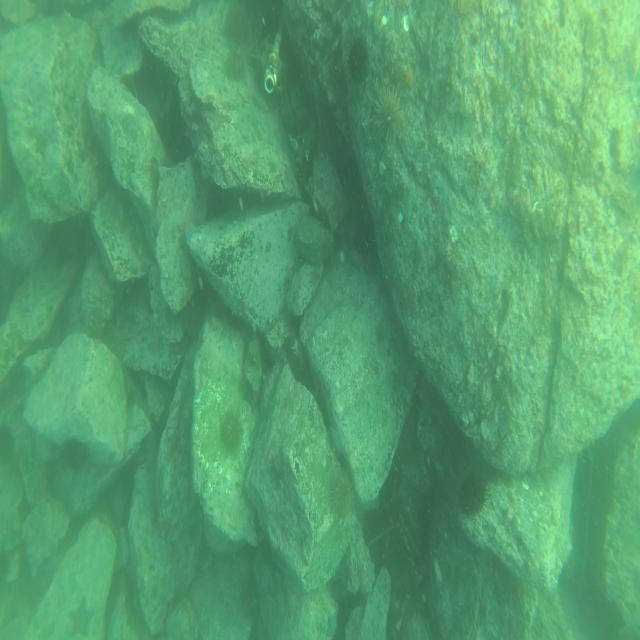echinus: (371, 83, 404, 148), (462, 473, 488, 519), (345, 38, 372, 82), (329, 461, 351, 514), (59, 439, 90, 476), (224, 412, 246, 454), (222, 48, 249, 80)
starfish: (65, 596, 95, 636), (400, 59, 420, 92)
